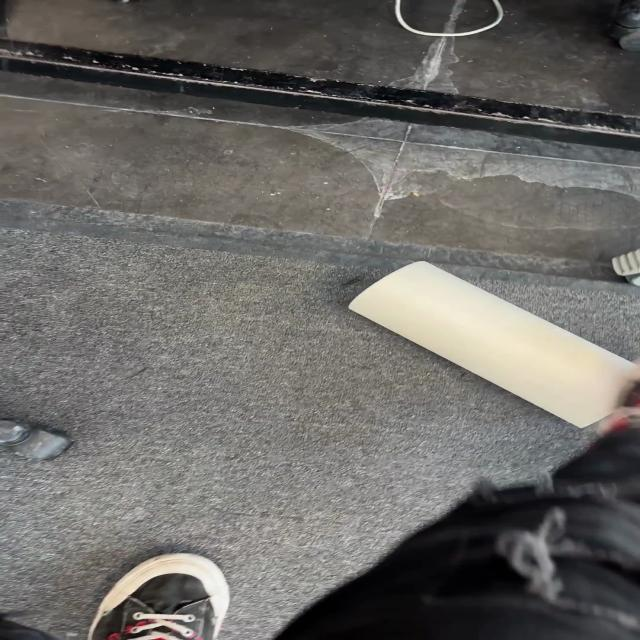Coral: (346, 259, 638, 429)
